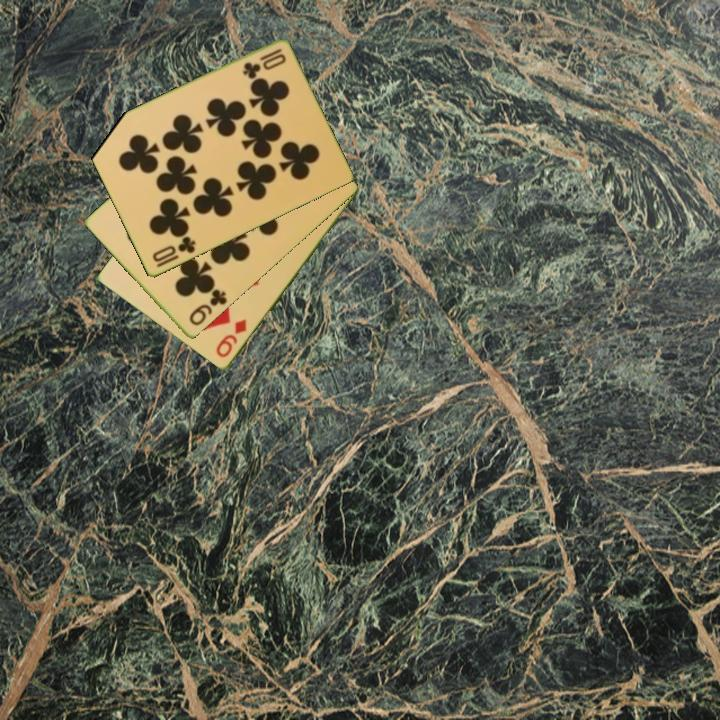10c: (148, 233, 198, 271), (239, 45, 285, 81)
9c: (185, 286, 230, 329)
9d: (212, 316, 250, 361)
